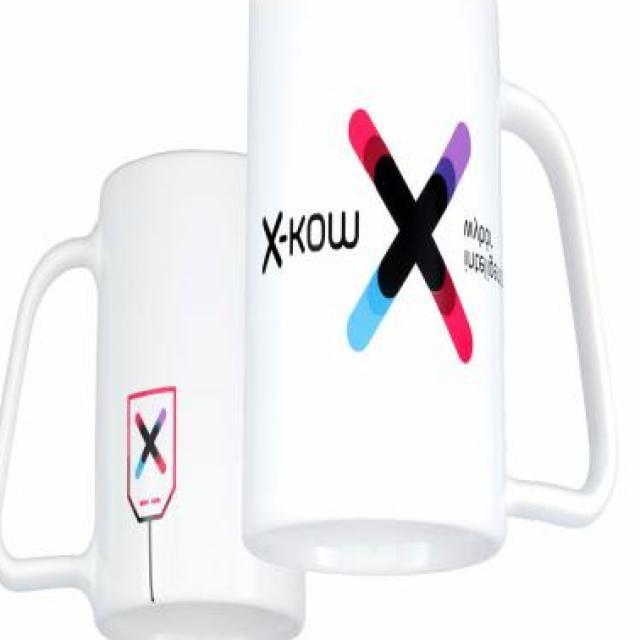cup: (472, 438, 536, 522)
